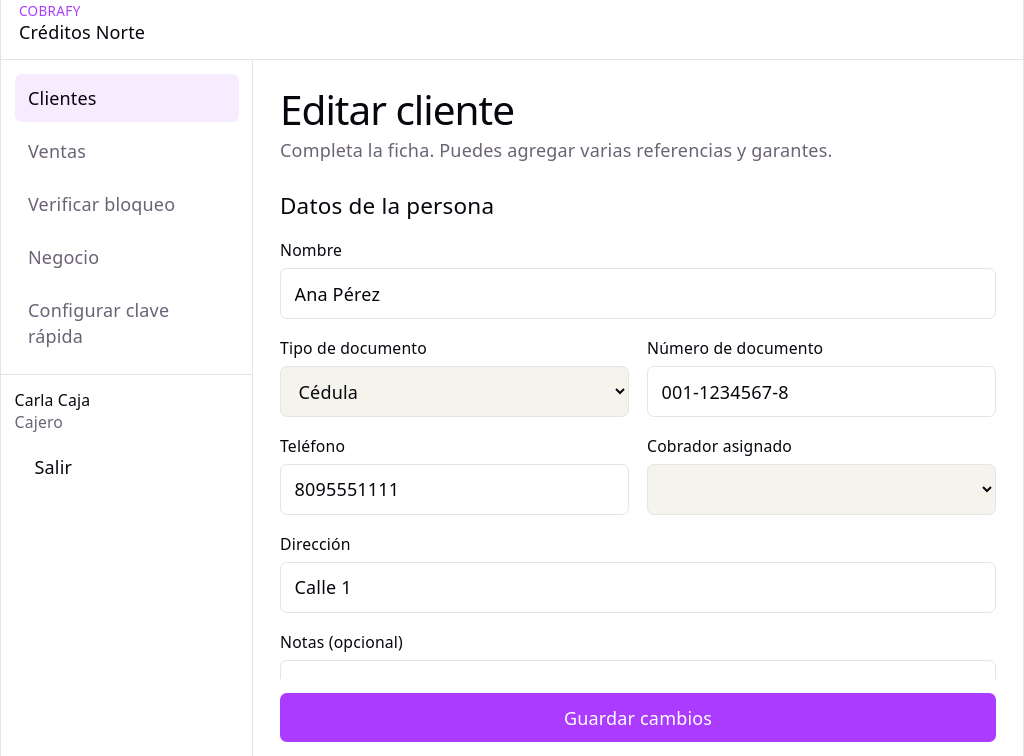
Test: CBF-215 errores de documento en el campo › editar con documento duplicado (PATCH /clients/:id) muestra el error en el input
Expected: the heading "Editar cliente" is shown, [280,82,514,137]
Step 1. Replace the text in the field labelled "Número de documento" with "001-9999999-9" → (822, 392), box [647,366,996,417]
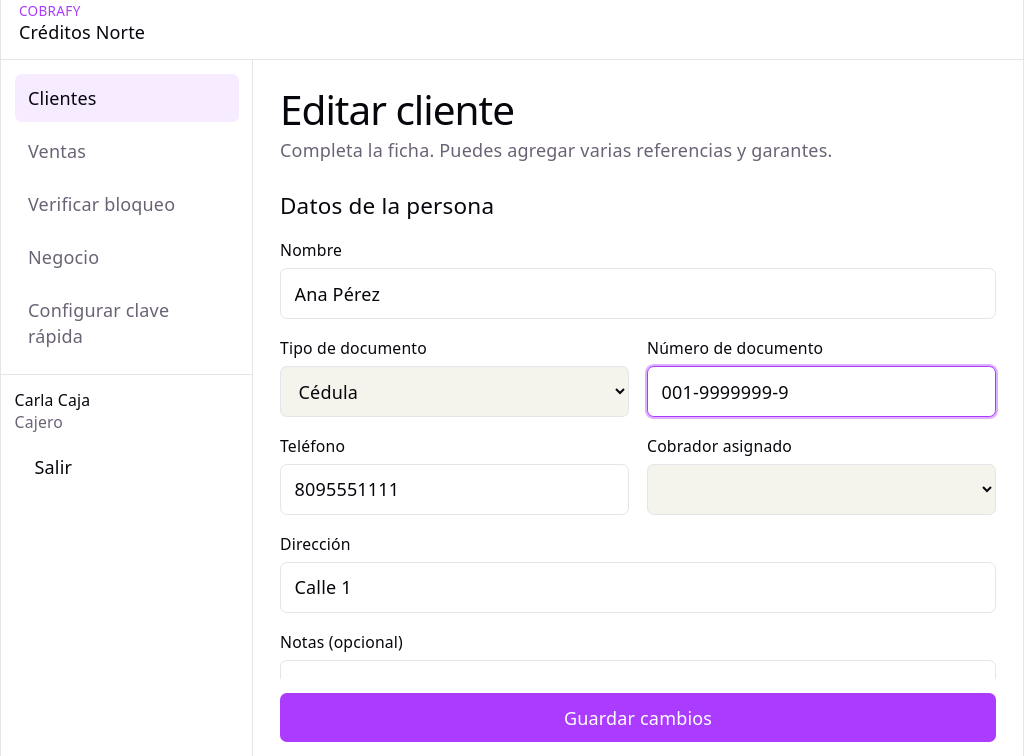
Step 2. Click the button "Guardar cambios" → (638, 718), box [280,693,996,742]
(page scrolled)
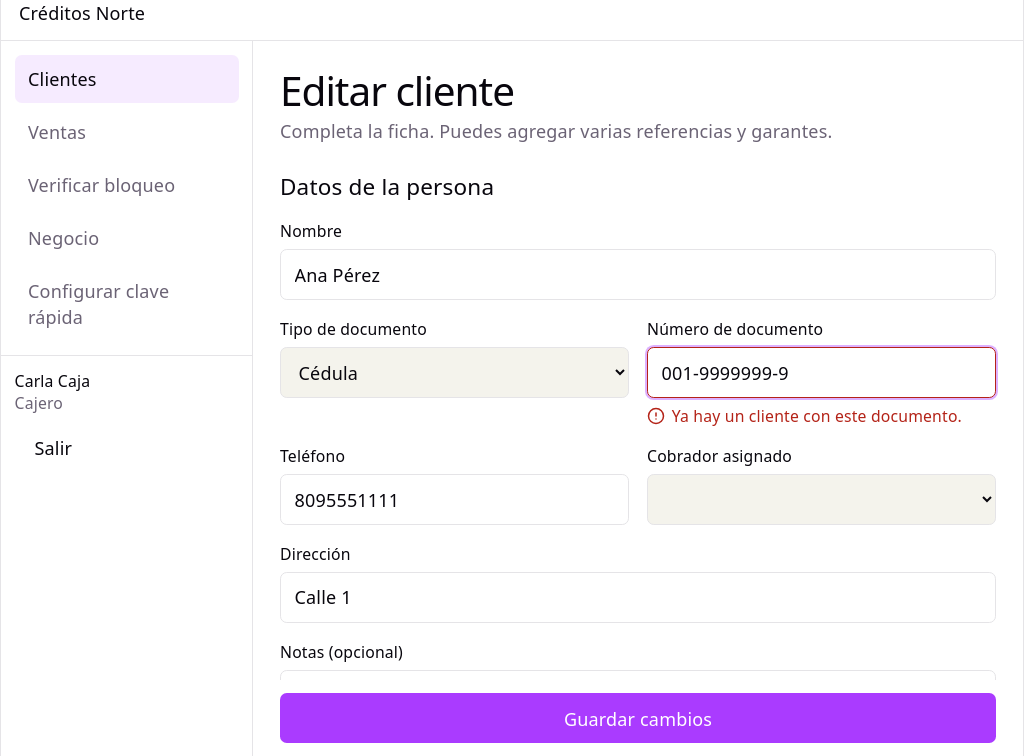
Expected: the message with id "document-error" reads "Ya hay un cliente con este documento.", [672,405,962,427]
